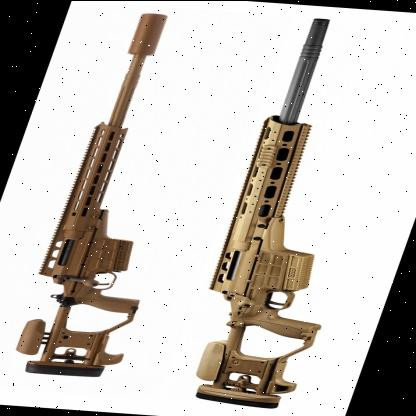rifle: (161, 34, 416, 410), (0, 9, 246, 386)
